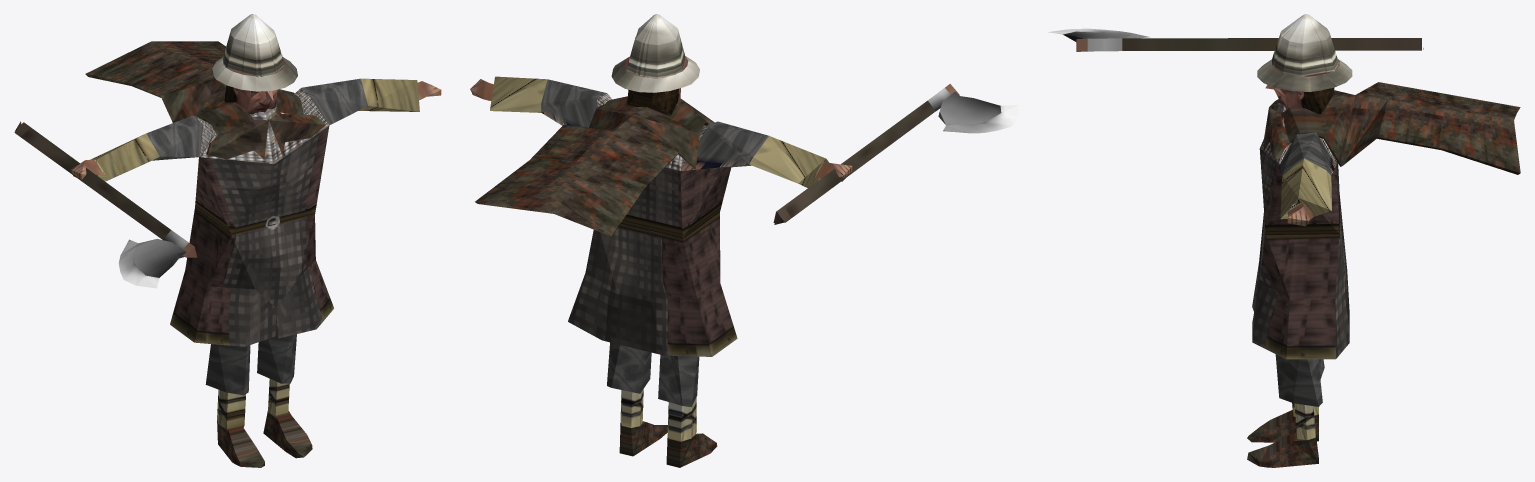
Rendered from liv.glb.
The picture shows the model from 3 angles, left to right: view 1: azimuth 30°, elevation 25°; view 2: azimuth 150°, elevation 25°; view 3: azimuth 270°, elevation 25°; orthographic projection. The views are drawn at different scales.
Parts seen in each view (by area): view 1: liv_body; view 2: liv_body; view 3: liv_body.
Boxes of the visible parts, x1=… form: liv_body: x1=14, y1=14, x2=441, y2=467; liv_body: x1=470, y1=14, x2=1018, y2=467; liv_body: x1=1048, y1=14, x2=1520, y2=467.
Bounding box in the file's own units: 0.4255 × 0.4184 × 0.4122.
1 material, 1 textured.
